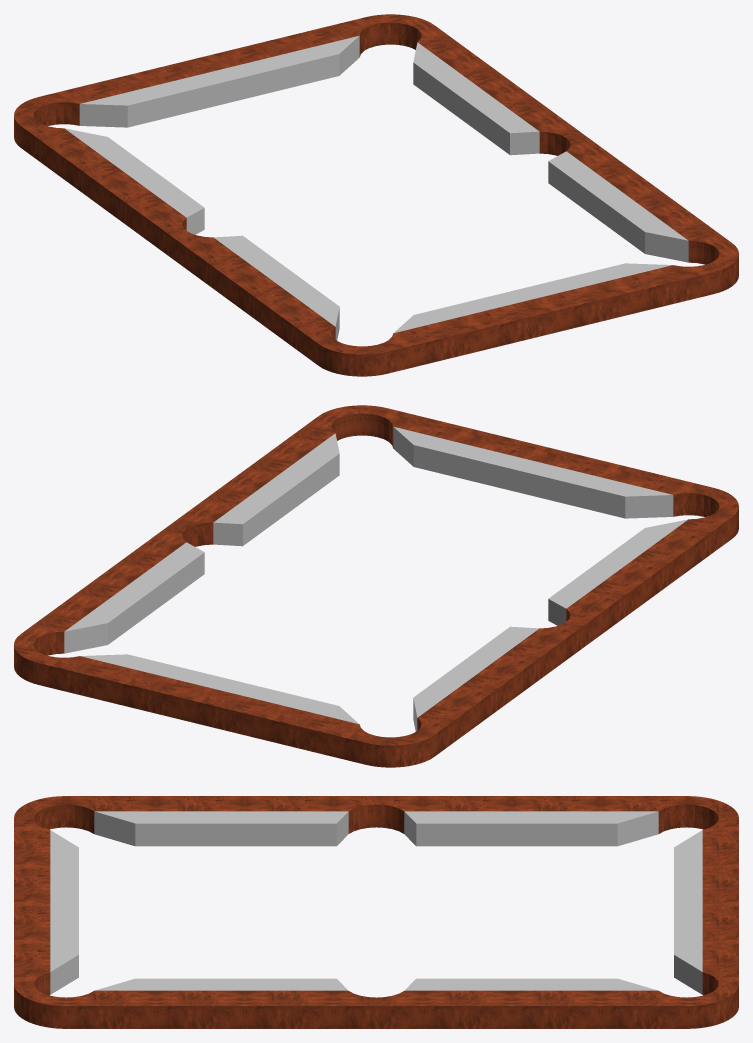
The model's file is pool_table.obj.
3 renders of one model, top to bottom at view 1: azimuth 30°, elevation 25°; view 2: azimuth 150°, elevation 25°; view 3: azimuth 270°, elevation 25°, orthographic. The views are drawn at different scales.
Parts seen in each view (by area): view 1: SketchUp_ID2, SketchUp.009_ID84, SketchUp.011_ID100, SketchUp.010_ID92, SketchUp.012_ID108, SketchUp.008_ID76, SketchUp.007_ID63, SketchUp.006_ID55, SketchUp.001_ID15, SketchUp.005_ID47, SketchUp.004_ID39; view 2: SketchUp_ID2, SketchUp.012_ID108, SketchUp.010_ID92, SketchUp.011_ID100, SketchUp.009_ID84, SketchUp.007_ID63, SketchUp.008_ID76, SketchUp.004_ID39, SketchUp.003_ID31, SketchUp.005_ID47, SketchUp.006_ID55; view 3: SketchUp_ID2, SketchUp.008_ID76, SketchUp.007_ID63, SketchUp.012_ID108, SketchUp.009_ID84, SketchUp.011_ID100, SketchUp.010_ID92, SketchUp.002_ID23, SketchUp.003_ID31, SketchUp.001_ID15.
Boxes of the visible parts, x1,y1,x2,y2 form: SketchUp_ID2: (14,14,738,376); SketchUp.009_ID84: (79,35,359,127); SketchUp.011_ID100: (548,151,688,262); SketchUp.010_ID92: (413,42,539,155); SketchUp.012_ID108: (393,263,672,333); SketchUp.008_ID76: (65,128,204,234); SketchUp.007_ID63: (213,235,339,340); SketchUp.006_ID55: (359,22,421,56); SketchUp.001_ID15: (33,102,79,125); SketchUp.005_ID47: (539,131,570,155); SketchUp.004_ID39: (688,240,719,264); SketchUp_ID2: (14,405,738,767); SketchUp.012_ID108: (393,426,673,518); SketchUp.010_ID92: (64,542,204,653); SketchUp.011_ID100: (213,433,339,546); SketchUp.009_ID84: (80,654,359,724); SketchUp.007_ID63: (548,519,687,625); SketchUp.008_ID76: (413,626,539,731); SketchUp.004_ID39: (331,413,393,447); SketchUp.003_ID31: (673,493,719,516); SketchUp.005_ID47: (182,522,213,546); SketchUp.006_ID55: (33,631,64,655); SketchUp_ID2: (14,796,738,1028); SketchUp.008_ID76: (404,811,658,846); SketchUp.007_ID63: (94,811,348,846); SketchUp.012_ID108: (50,830,78,994); SketchUp.009_ID84: (674,830,702,994); SketchUp.011_ID100: (95,978,347,990); SketchUp.010_ID92: (405,978,657,990); SketchUp.002_ID23: (348,804,404,833); SketchUp.003_ID31: (34,804,94,833); SketchUp.001_ID15: (658,804,718,833).
Size of the model in its own units: 94.92 by 4.82 by 138.
